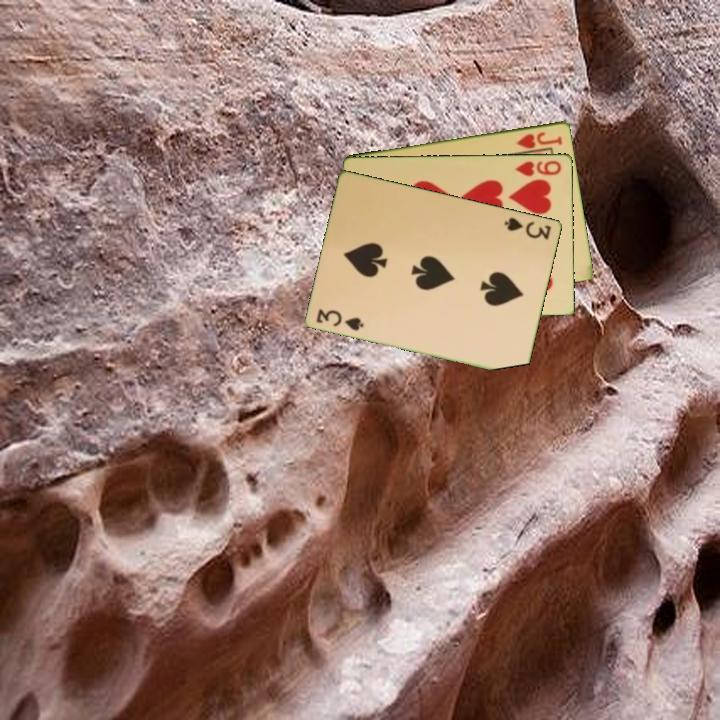3s: (501, 213, 554, 242), (313, 305, 367, 333)
9h: (512, 157, 564, 179)
Jh: (513, 128, 566, 151)
